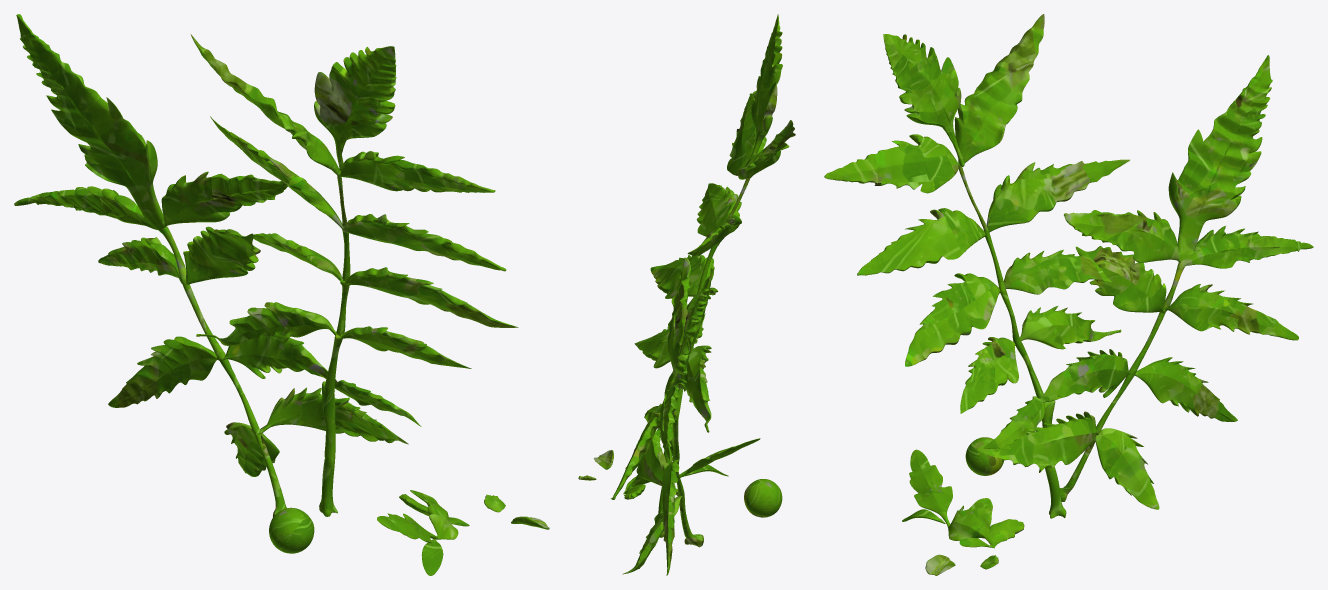
File: neem.glb
The picture shows the model from 3 angles, left to right: view 1: azimuth 30°, elevation 25°; view 2: azimuth 150°, elevation 25°; view 3: azimuth 270°, elevation 25°; orthographic projection. The views are drawn at different scales.
Visible parts, largest first — view 1: tripo_node_b06d560f-bef4-48e7-90f2-d6dca8ad169d; view 2: tripo_node_b06d560f-bef4-48e7-90f2-d6dca8ad169d; view 3: tripo_node_b06d560f-bef4-48e7-90f2-d6dca8ad169d.
Boxes of the visible parts, x1=… form: tripo_node_b06d560f-bef4-48e7-90f2-d6dca8ad169d: x1=14, y1=14, x2=549, y2=575; tripo_node_b06d560f-bef4-48e7-90f2-d6dca8ad169d: x1=578, y1=14, x2=795, y2=575; tripo_node_b06d560f-bef4-48e7-90f2-d6dca8ad169d: x1=824, y1=14, x2=1313, y2=575.
Bounding box in the file's own units: 0.6385 × 1 × 0.9505.
1 material, 1 textured.
